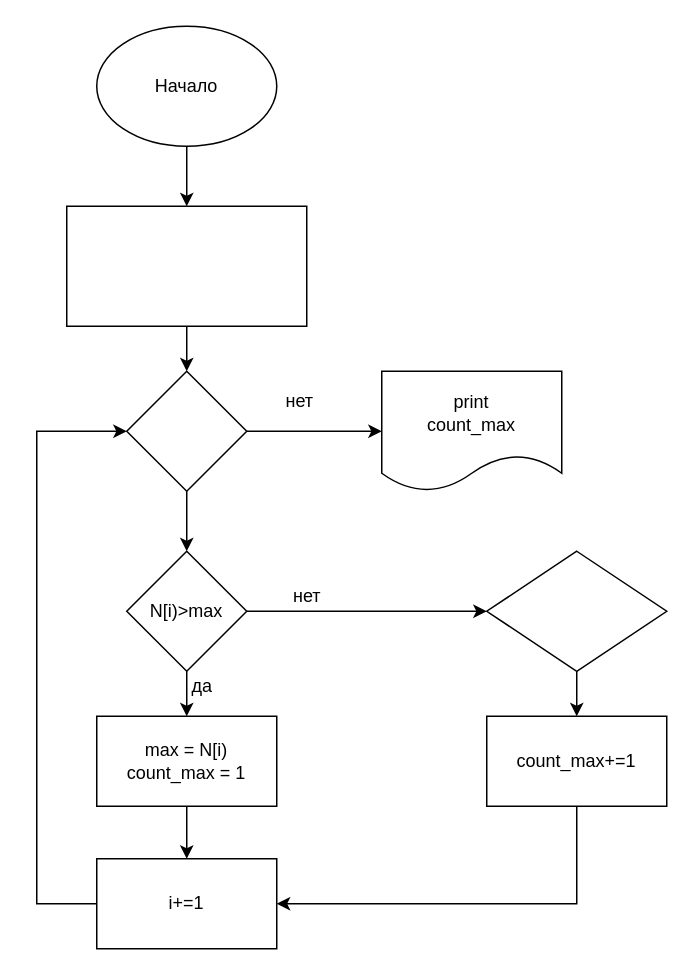
Some shapes in this 693 by 975 pixel diagram are drawn without their labels. Here are the shapes that lost their labels. From the top down, the box of each, then its label:
(65, 205, 307, 326): Numbers[1,8,3,8,2,6,8,8) i = 0 max = num[i) count_max = 0
(125, 370, 247, 491): i<N
(485, 550, 667, 671): num[i) = max
